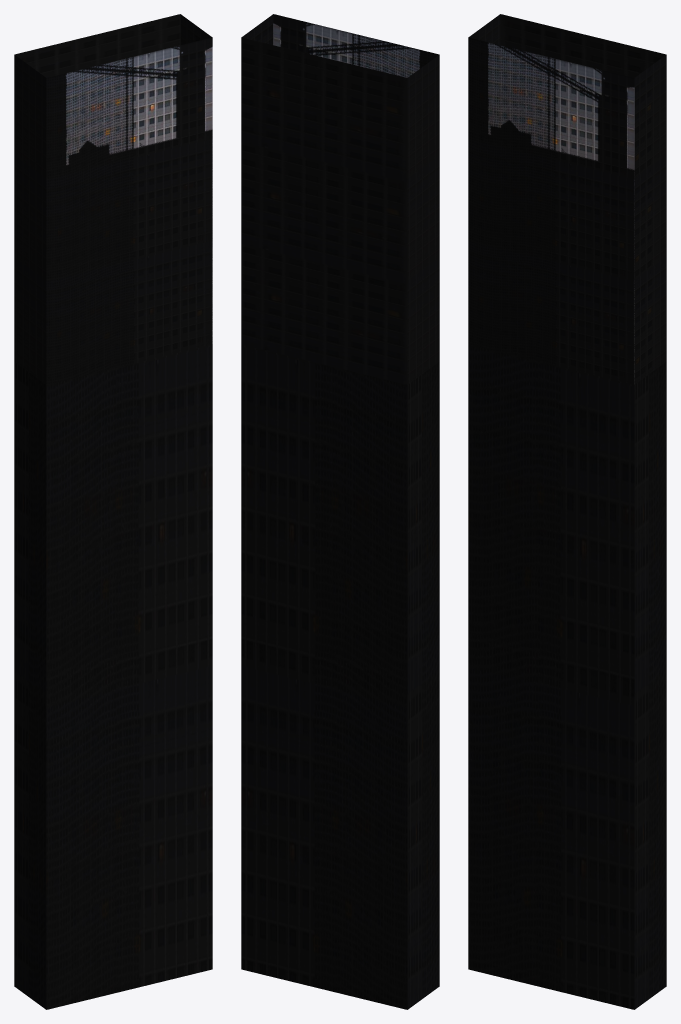
The model's file is tower2-dodai.obj.
3 renders of one model, left to right at view 1: azimuth 30°, elevation 25°; view 2: azimuth 150°, elevation 25°; view 3: azimuth 330°, elevation 25°, orthographic.
Size of the model in its own units: 69.65 by 373 by 23.28.
1 material, 1 textured.
